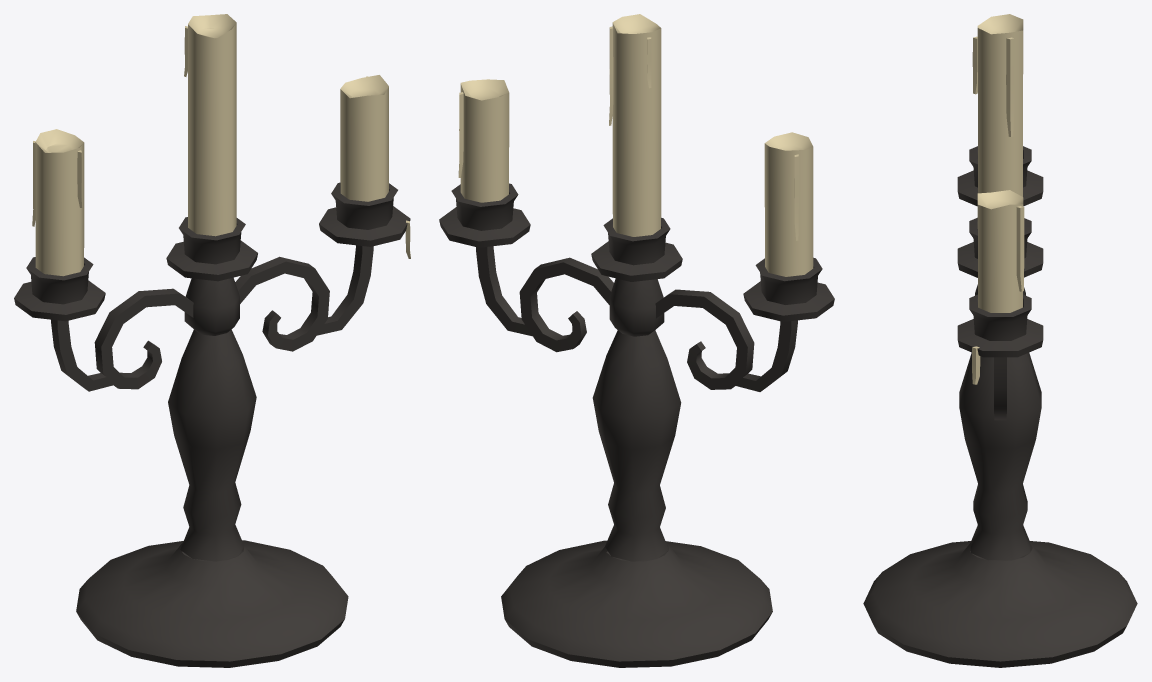
The model's file is candlestick.glb.
3 renders of one model, left to right at view 1: azimuth 30°, elevation 25°; view 2: azimuth 150°, elevation 25°; view 3: azimuth 270°, elevation 25°, orthographic.
Visible parts, largest first — view 1: candlestick; view 2: candlestick; view 3: candlestick.
Part boxes in pixels (<box>): candlestick: <box>14,14,410,667</box>; candlestick: <box>439,14,834,667</box>; candlestick: <box>863,14,1137,667</box>.
Size of the model in its own units: 0.2834 by 0.4218 by 0.178.
